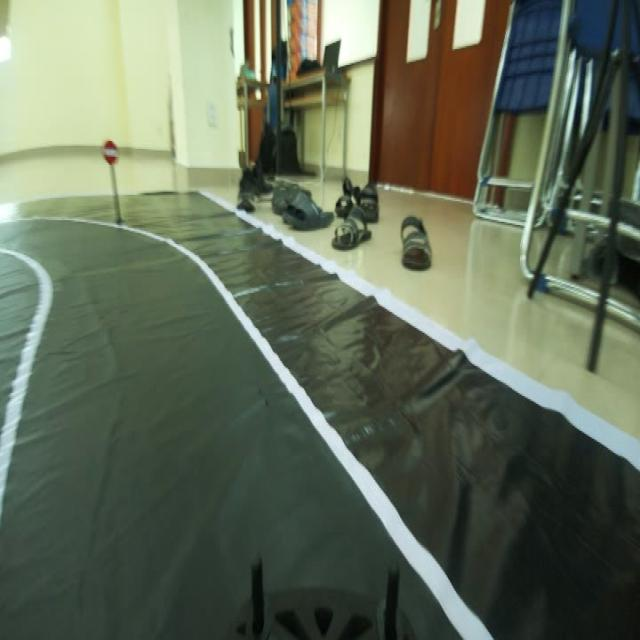no_entry: (100, 134, 124, 170)
